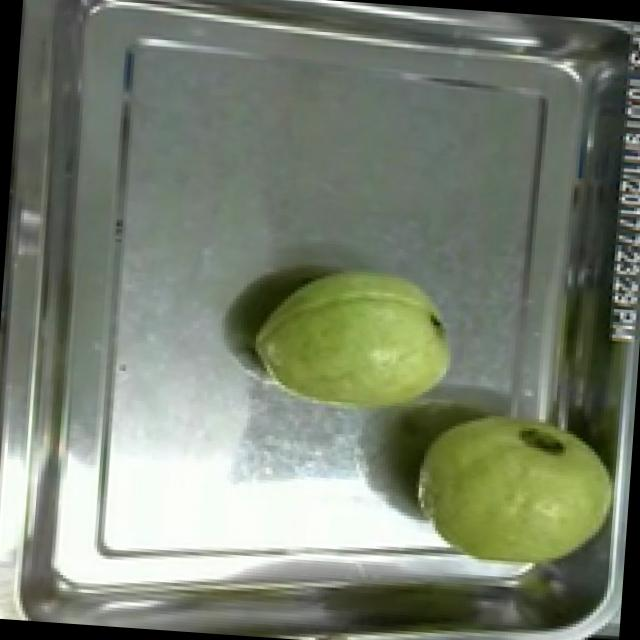Fruit: (394, 397, 628, 598), (240, 251, 465, 426)
